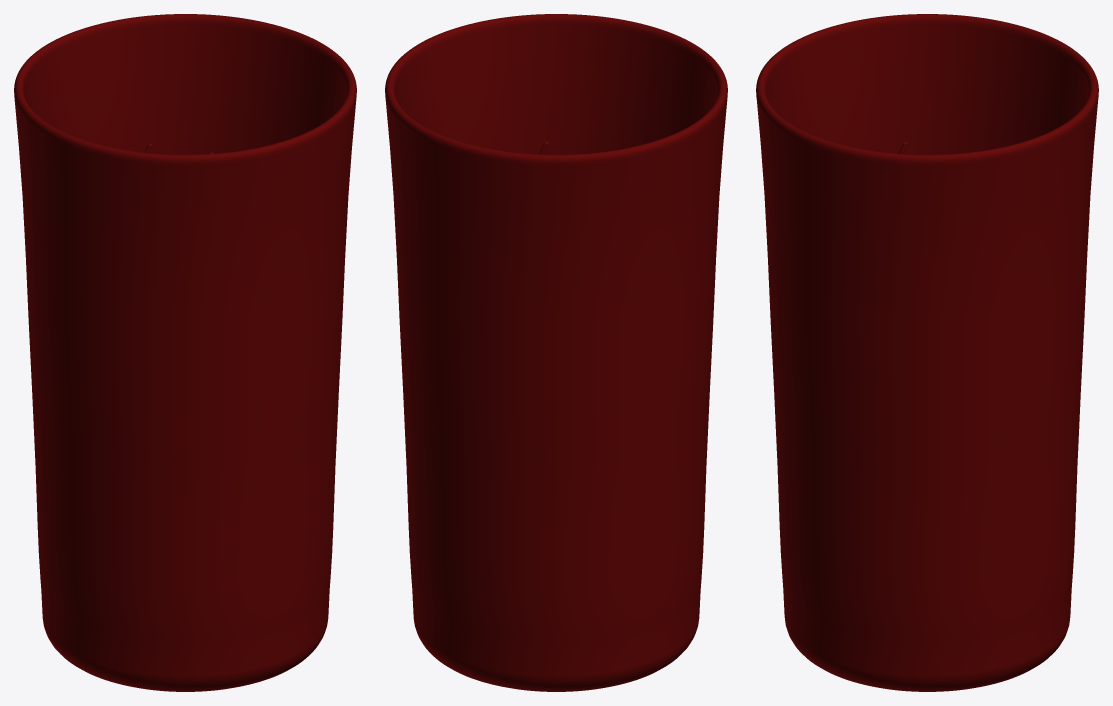
File: tulip80-2.glb
3 renders of one model, left to right at view 1: azimuth 30°, elevation 25°; view 2: azimuth 150°, elevation 25°; view 3: azimuth 270°, elevation 25°, orthographic.
Bounding box in the file's own units: 0.069 × 0.1237 × 0.069.
